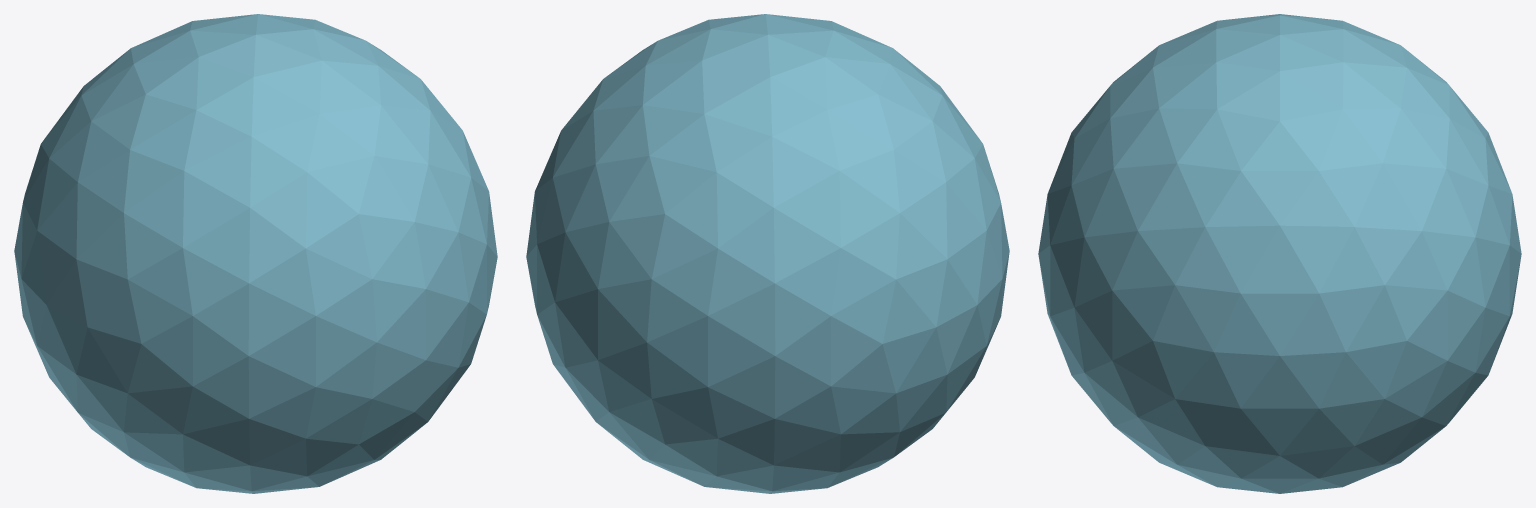
Rendered from smooth_edges.glb.
3 renders of one model, left to right at view 1: azimuth 30°, elevation 25°; view 2: azimuth 150°, elevation 25°; view 3: azimuth 270°, elevation 25°, orthographic.
Visible parts, largest first — view 1: world; view 2: world; view 3: world.
Boxes of the visible parts, bbox=[...] form: world: bbox=[14, 14, 497, 493]; world: bbox=[526, 14, 1009, 493]; world: bbox=[1038, 14, 1521, 493].
Size of the model in its own units: 1.2 by 1.2 by 1.2.
